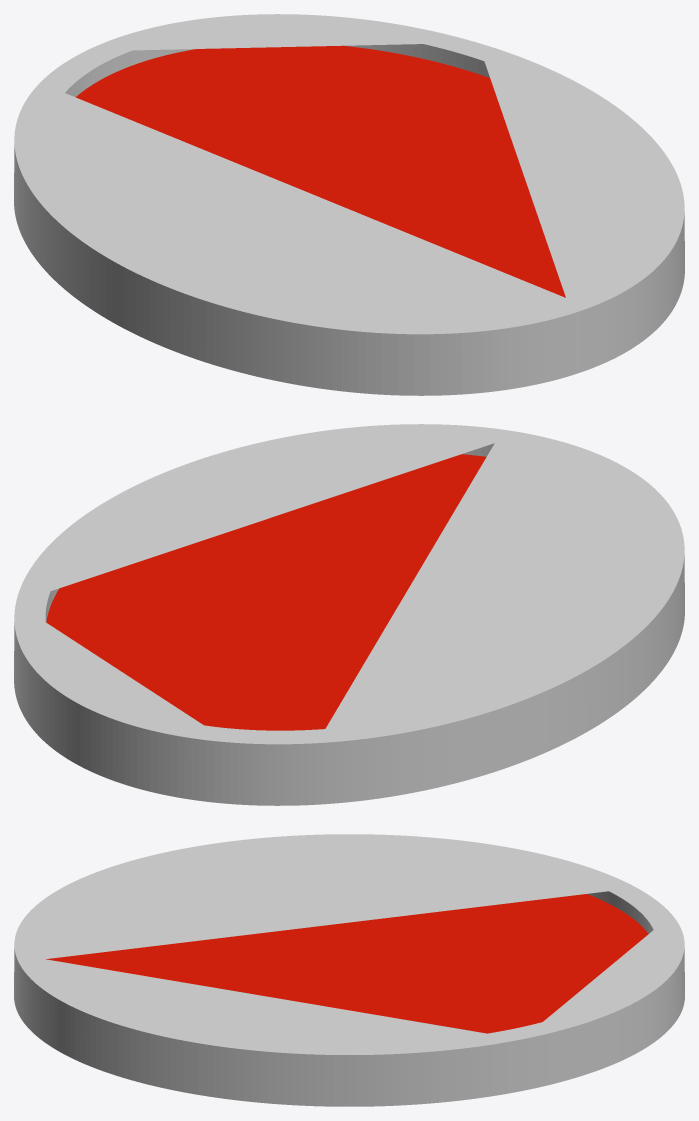
File: NextStageButton.fbx
3 renders of one model, top to bottom at view 1: azimuth 30°, elevation 25°; view 2: azimuth 150°, elevation 25°; view 3: azimuth 270°, elevation 25°, orthographic. The views are drawn at different scales.
Visible parts, largest first — view 1: Cylinder.001; view 2: Cylinder.001; view 3: Cylinder.001.
Part boxes in pixels (box(x1,y1,x2,y2)): Cylinder.001: box(14, 14, 684, 395); Cylinder.001: box(14, 424, 684, 805); Cylinder.001: box(14, 834, 684, 1106).
Size of the model in its own units: 199 by 21.6 by 255.
